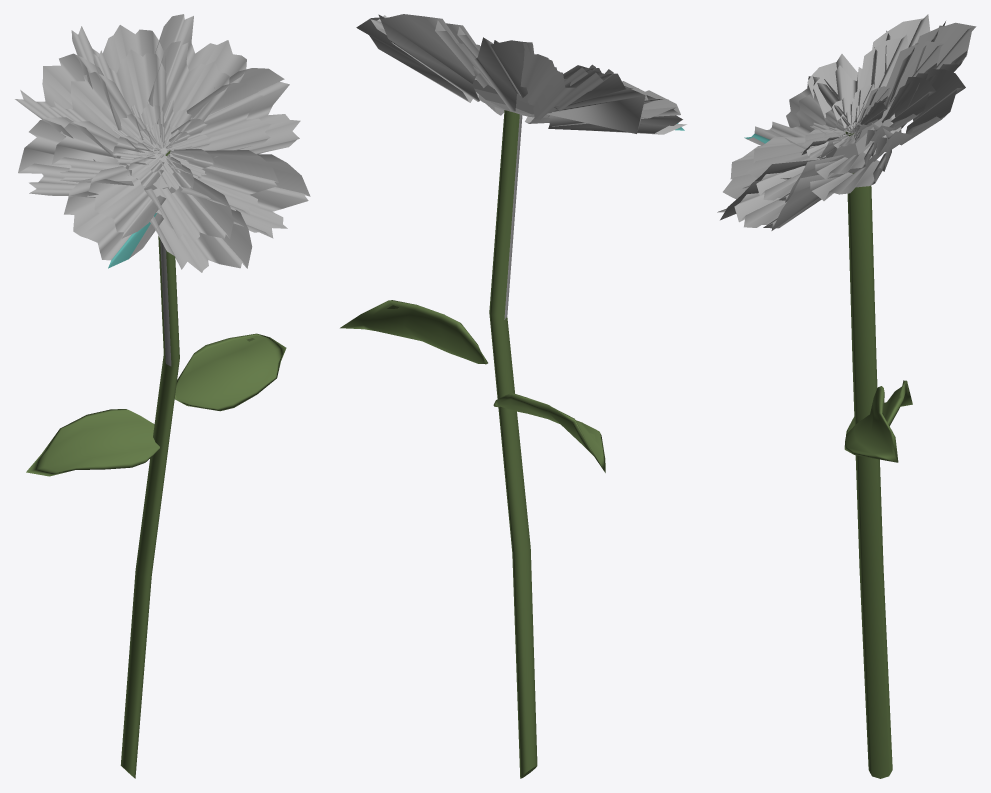
The model's file is carnationWhite.fbx.
The picture shows the model from 3 angles, left to right: view 1: azimuth 30°, elevation 25°; view 2: azimuth 150°, elevation 25°; view 3: azimuth 270°, elevation 25°; orthographic projection. The views are drawn at different scales.
Parts seen in each view (by area): view 1: polySurface317; view 2: polySurface317; view 3: polySurface317.
Boxes of the visible parts, x1,y1,x2,y2 form: polySurface317: (15, 14, 310, 778); polySurface317: (340, 14, 686, 778); polySurface317: (717, 14, 976, 778).
Size of the model in its own units: 1.22 by 2.93 by 0.9236.
